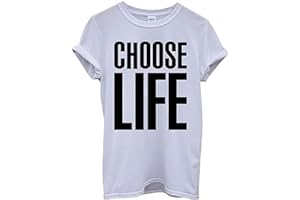design: (112, 39, 190, 131)
